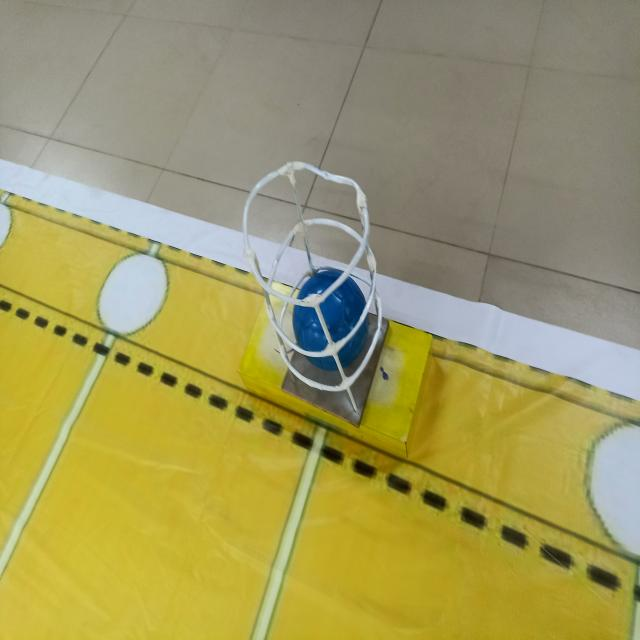blue_ball: (291, 260, 373, 370)
silo: (240, 139, 390, 439)
